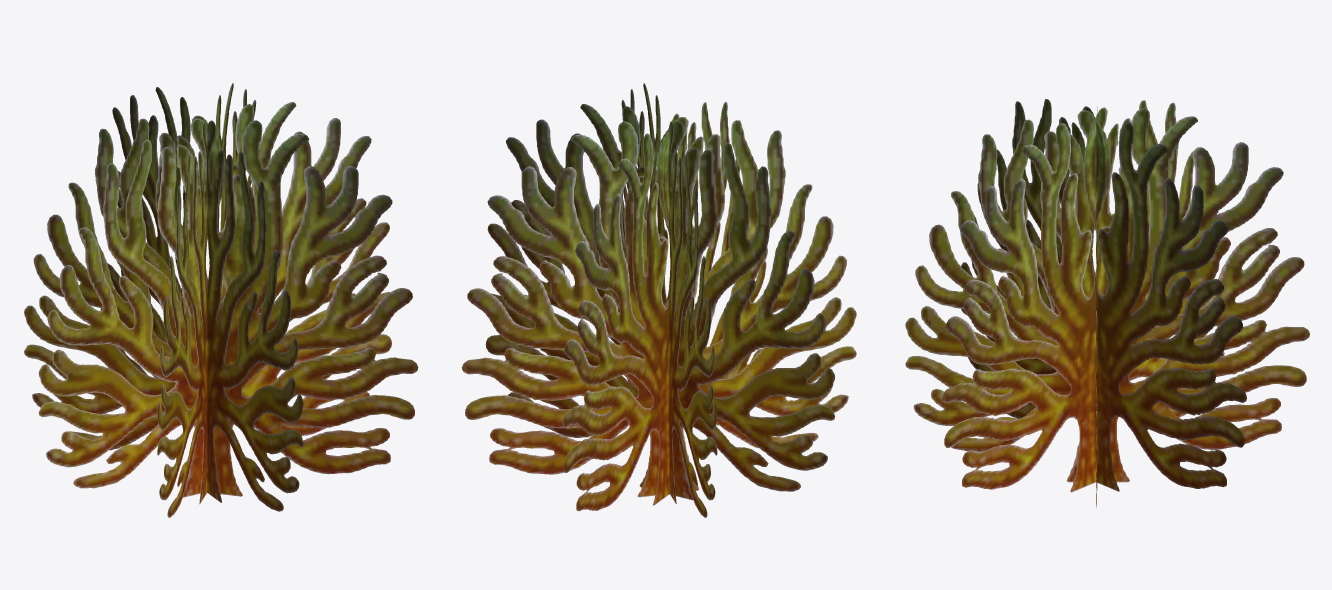
File: genericseaweed06.obj
3 renders of one model, left to right at view 1: azimuth 30°, elevation 25°; view 2: azimuth 150°, elevation 25°; view 3: azimuth 270°, elevation 25°, orthographic.
Visible parts, largest first — view 1: genericseaweed06; view 2: genericseaweed06; view 3: genericseaweed06.
Part boxes in pixels (<box>): genericseaweed06: <box>24,83,418,517</box>; genericseaweed06: <box>462,83,856,517</box>; genericseaweed06: <box>905,99,1309,507</box>.
Size of the model in its own units: 1.29 by 1.29 by 1.29.
1 material, 1 textured.
